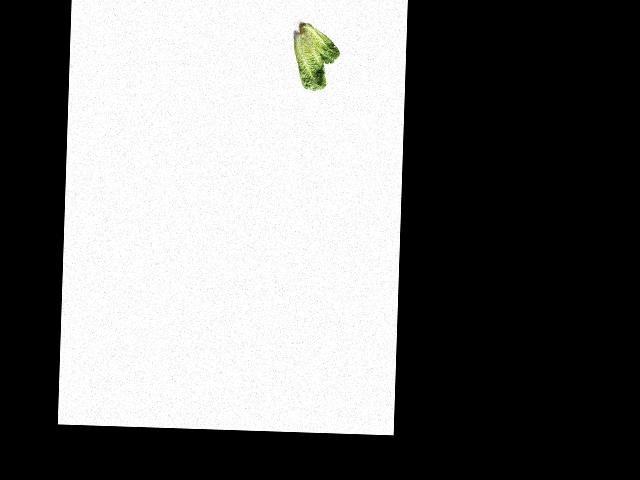lettuce: (297, 19, 341, 64)
